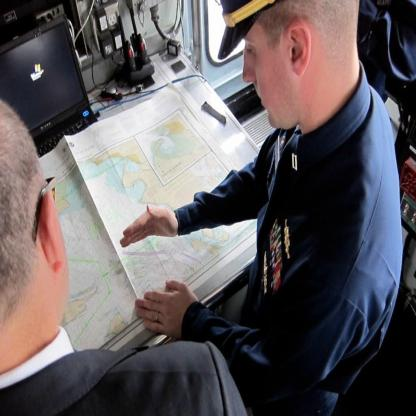board: (0, 12, 99, 157)
